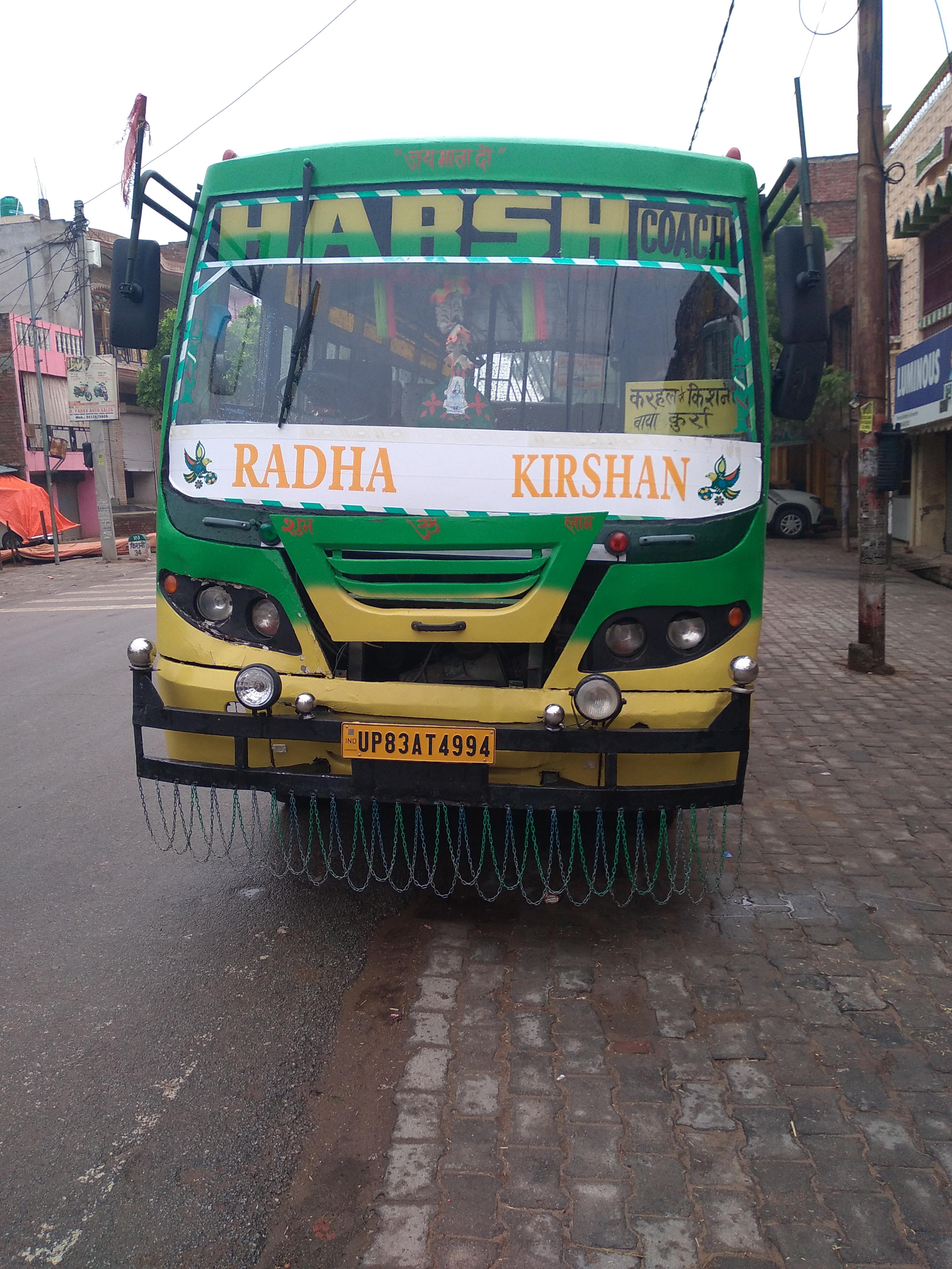non-ambulance: (99, 69, 849, 973)
